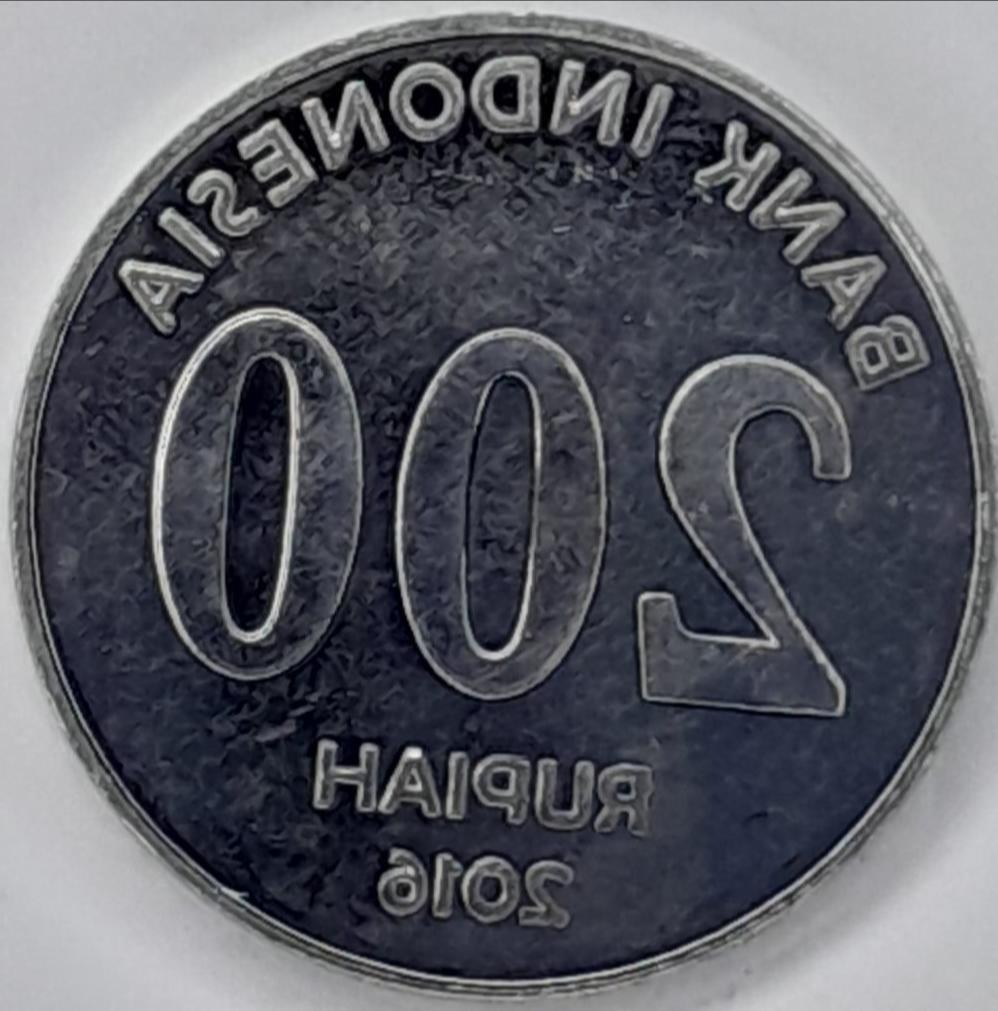coin_200_e2016: (0, 18, 998, 1011)
